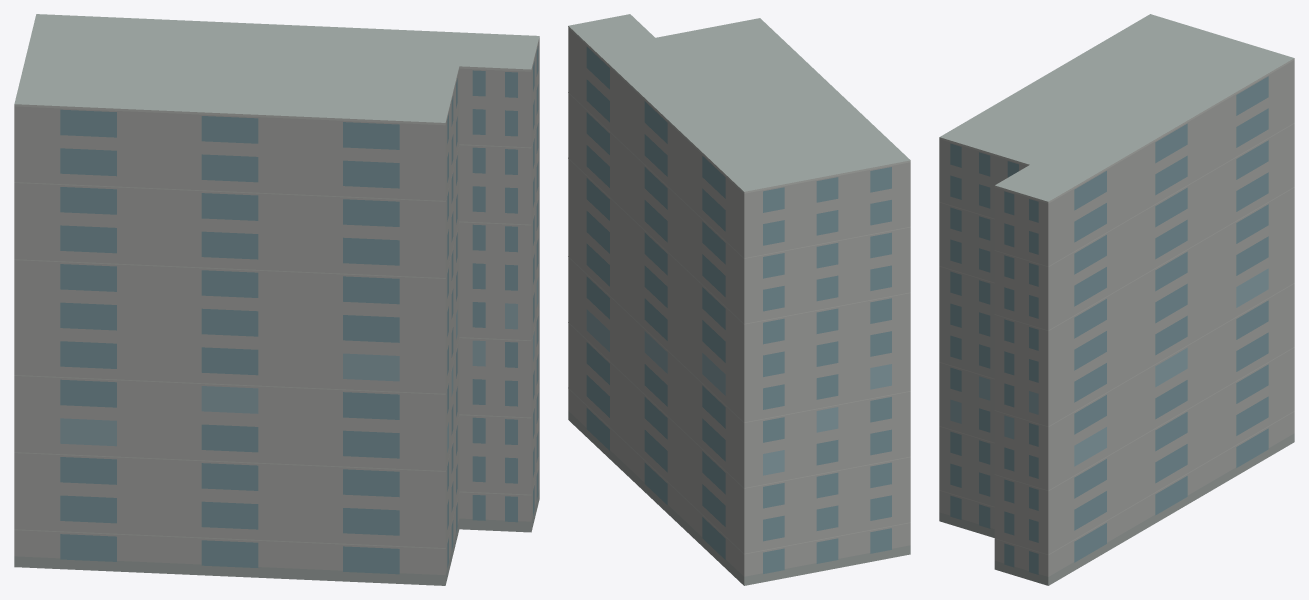
File: residential-7b7ff594-dc8f-4eb9-9839-436e93761a08.glb
3 views of the same model, side by side, from view 1: azimuth 30°, elevation 25°; view 2: azimuth 150°, elevation 25°; view 3: azimuth 270°, elevation 25° (orthographic). The views are drawn at different scales.
Visible parts, largest first — view 1: residential-7b7ff594-dc8f-4eb9-9839-436e93761a08.tmp; view 2: residential-7b7ff594-dc8f-4eb9-9839-436e93761a08.tmp; view 3: residential-7b7ff594-dc8f-4eb9-9839-436e93761a08.tmp.
Part boxes in pixels (x1,y1,x2,y2): residential-7b7ff594-dc8f-4eb9-9839-436e93761a08.tmp: (14,14,539,585); residential-7b7ff594-dc8f-4eb9-9839-436e93761a08.tmp: (568,14,910,585); residential-7b7ff594-dc8f-4eb9-9839-436e93761a08.tmp: (939,14,1294,585).
Bounding box in the file's own units: 52.45 × 50 × 41.91.
